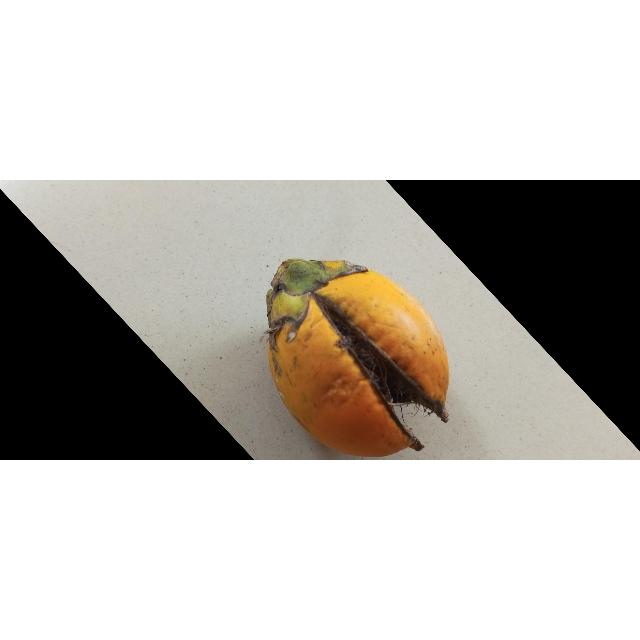damaged: (267, 261, 451, 458)
